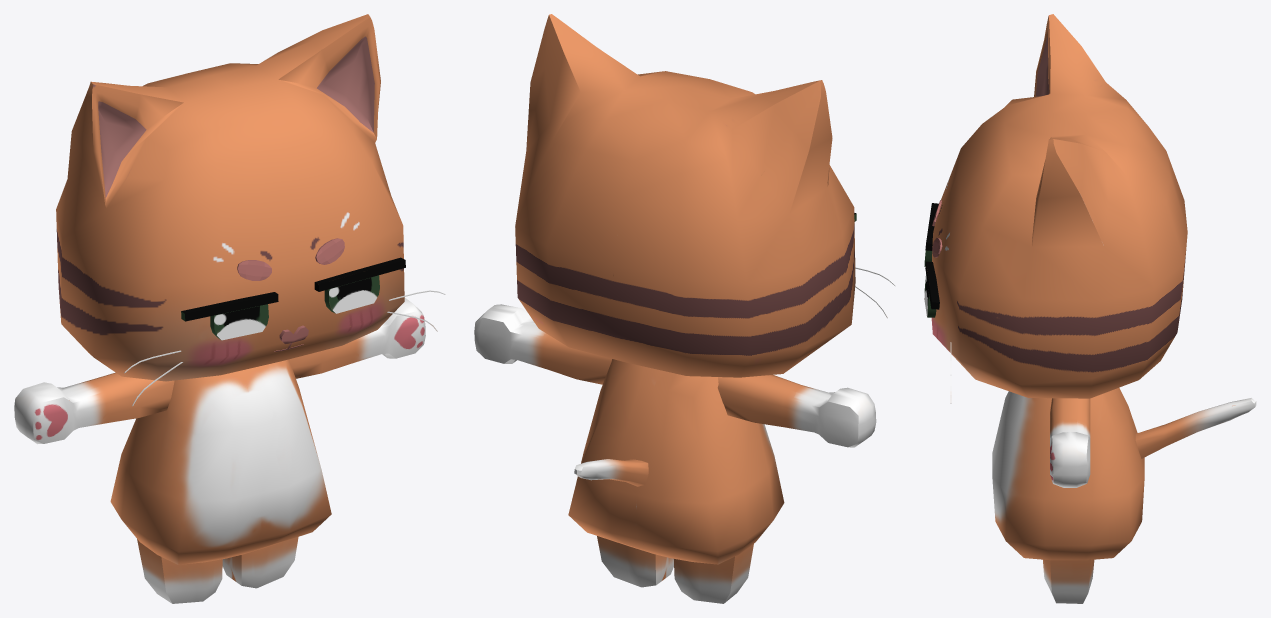
File: MrFresh.fbx
The picture shows the model from 3 angles, left to right: view 1: azimuth 30°, elevation 25°; view 2: azimuth 150°, elevation 25°; view 3: azimuth 270°, elevation 25°; orthographic projection. The views are drawn at different scales.
Parts seen in each view (by area): view 1: Cube.001; view 2: Cube.001; view 3: Cube.001.
Part boxes in pixels (bbox=[...]): Cube.001: bbox=[14, 14, 445, 603]; Cube.001: bbox=[474, 14, 895, 603]; Cube.001: bbox=[924, 14, 1256, 603].
Size of the model in its own units: 280 by 369 by 220.
1 material, 1 textured.
